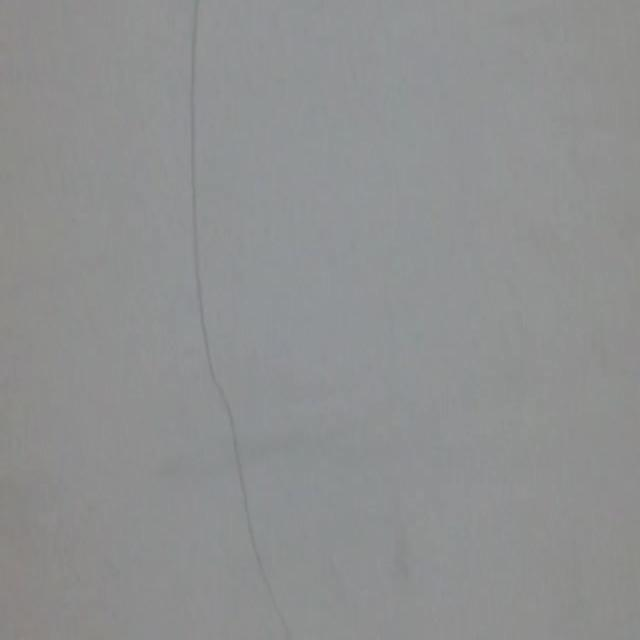Crack: (167, 2, 298, 638)
